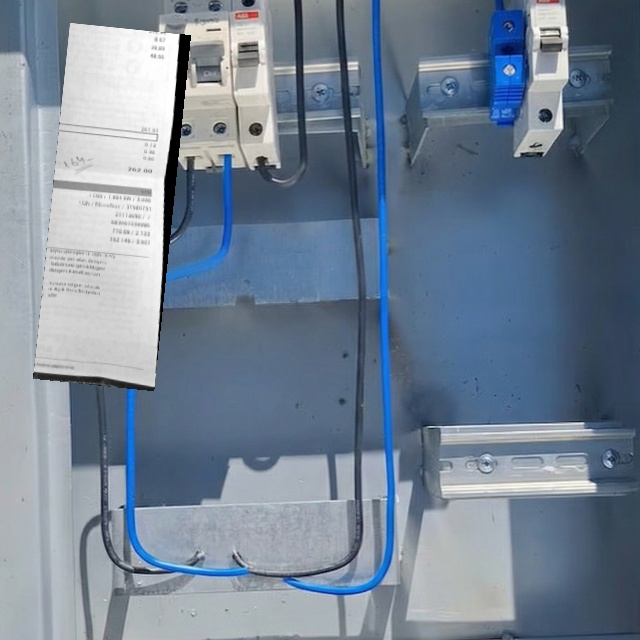electricity-bill: (33, 22, 191, 390)
